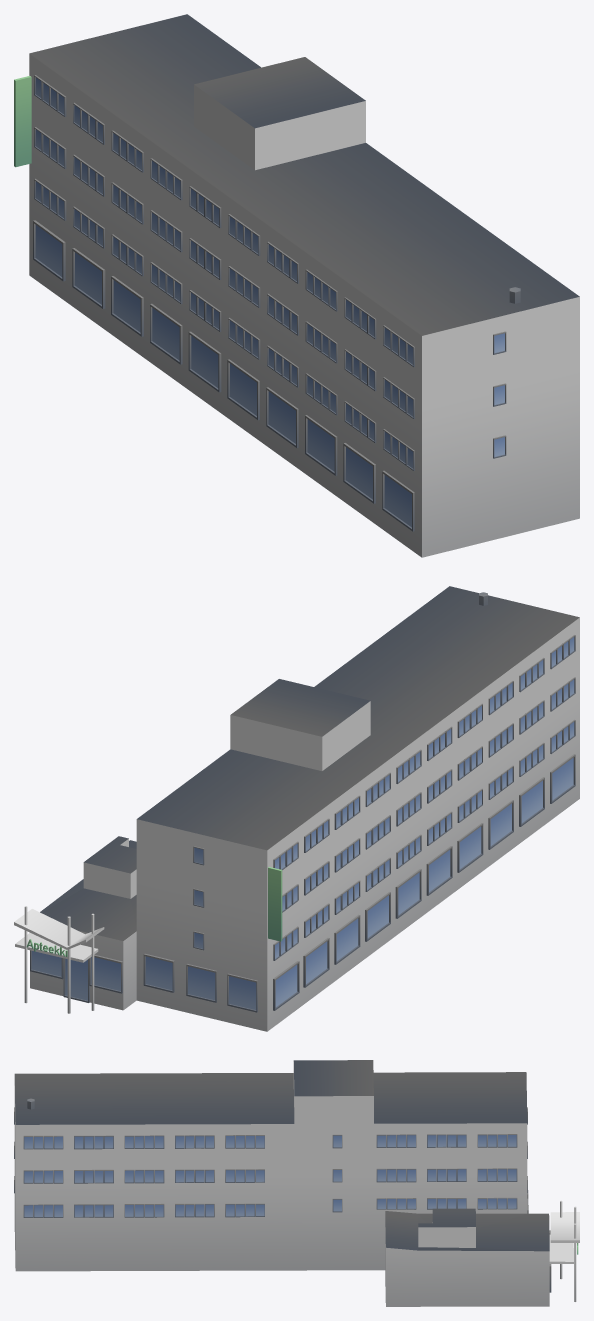
The model's file is tikkurilan_uusi_apteekki.fbx.
The picture shows the model from 3 angles, top to bottom: view 1: azimuth 30°, elevation 25°; view 2: azimuth 150°, elevation 25°; view 3: azimuth 270°, elevation 25°; orthographic projection. The views are drawn at different scales.
Parts seen in each view (by area): view 1: tikkurilan_uusi_apteekki1; view 2: tikkurilan_uusi_apteekki1; view 3: tikkurilan_uusi_apteekki1.
Boxes of the visible parts, <box> form: tikkurilan_uusi_apteekki1: <box>14,14,579,557</box>; tikkurilan_uusi_apteekki1: <box>14,586,579,1031</box>; tikkurilan_uusi_apteekki1: <box>14,1060,579,1306</box>.
Bounding box in the file's own units: 52.64 × 45.79 × 135.
